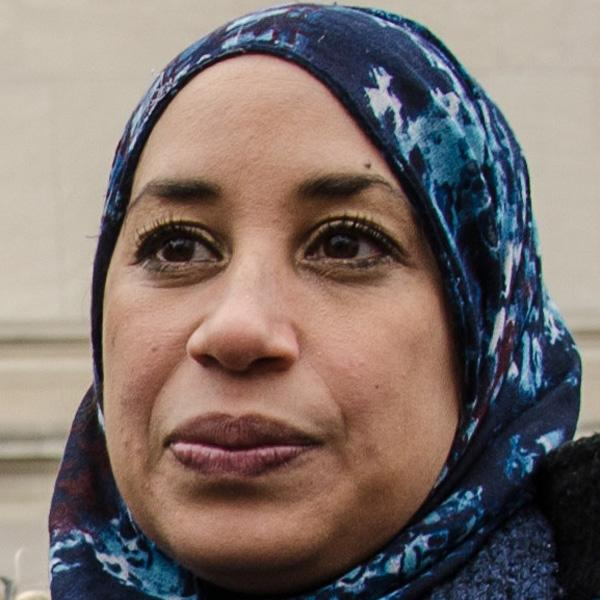Eyes: (289, 205, 421, 291), (126, 208, 236, 289)
